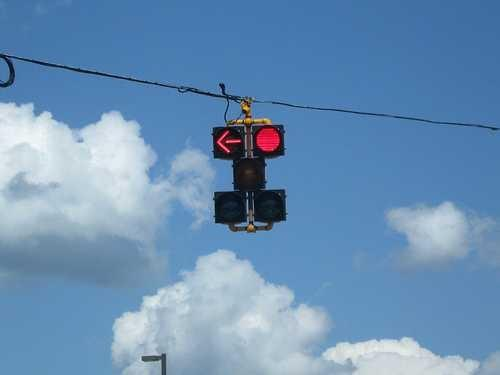red: (213, 126, 247, 159), (253, 126, 282, 156)
